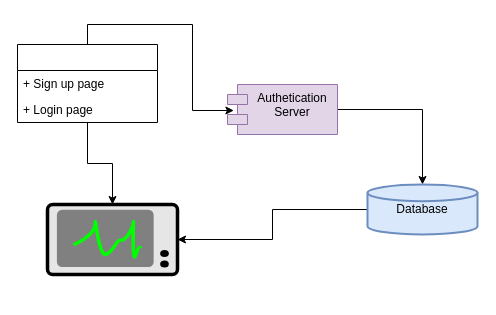
The diagram is 496 pixels wide and 315 high, and some of its shapes have lost their labels. The shapes that lost their labels are listed below. From the top down, each one's box as (x1, y1, x2, y2) in pixels, then its label:
(16, 44, 158, 122): User Interface
(46, 203, 178, 275): Frontend Interface
